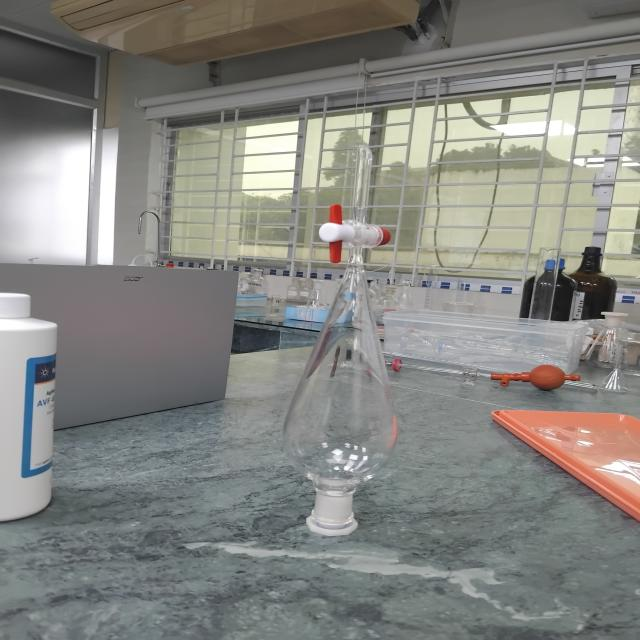Separating_Funnel: (279, 119, 427, 560)
